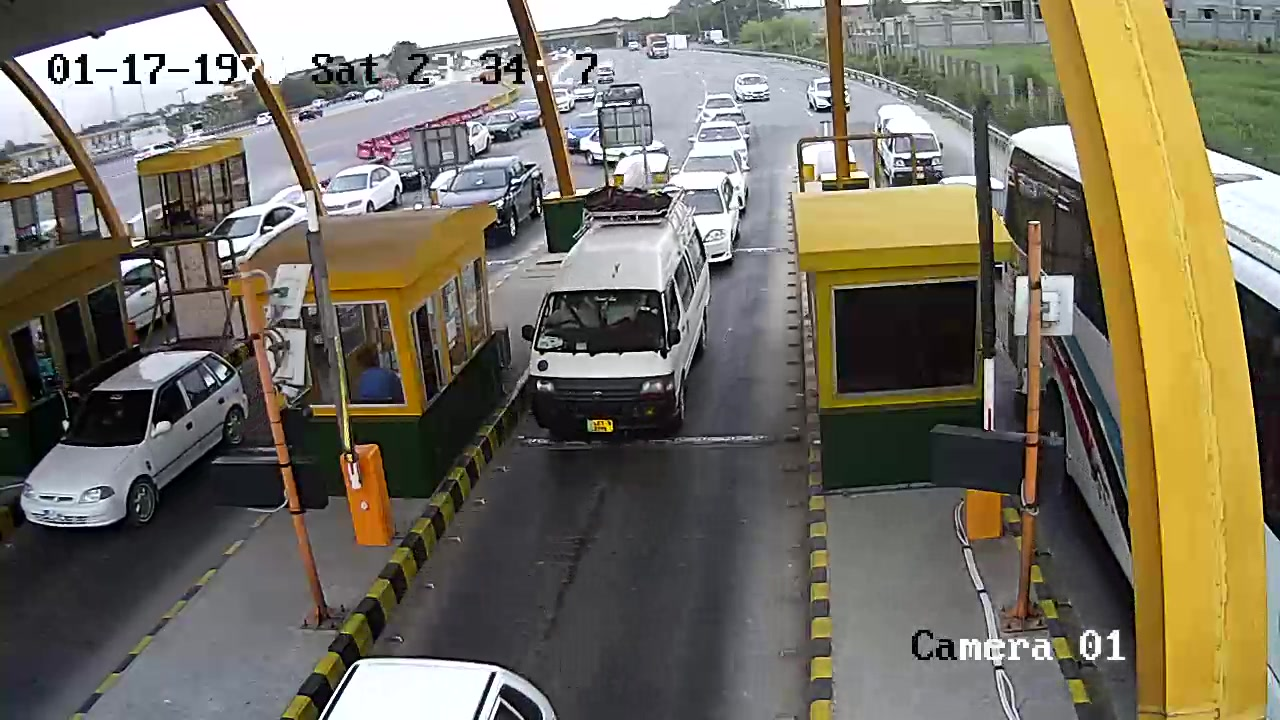F3: (519, 180, 711, 456)
